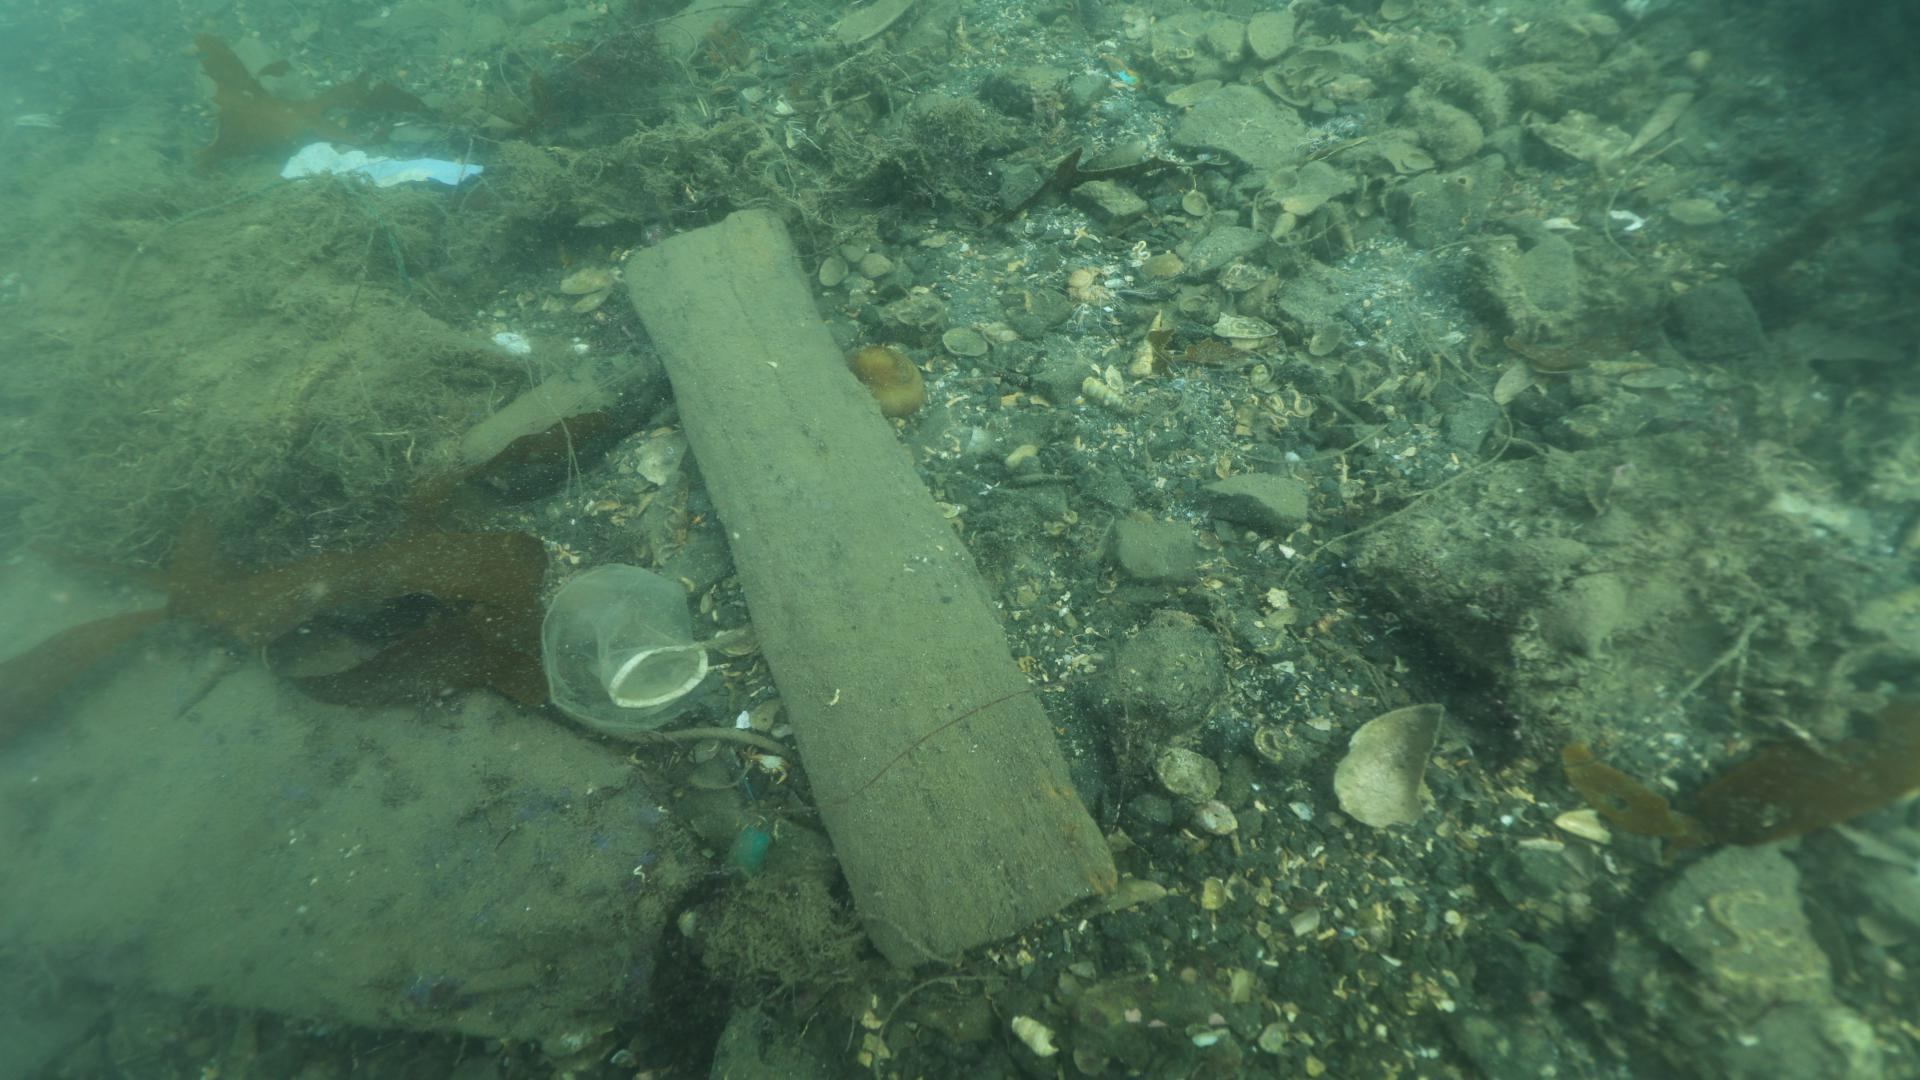wood: (615, 206, 1113, 971)
